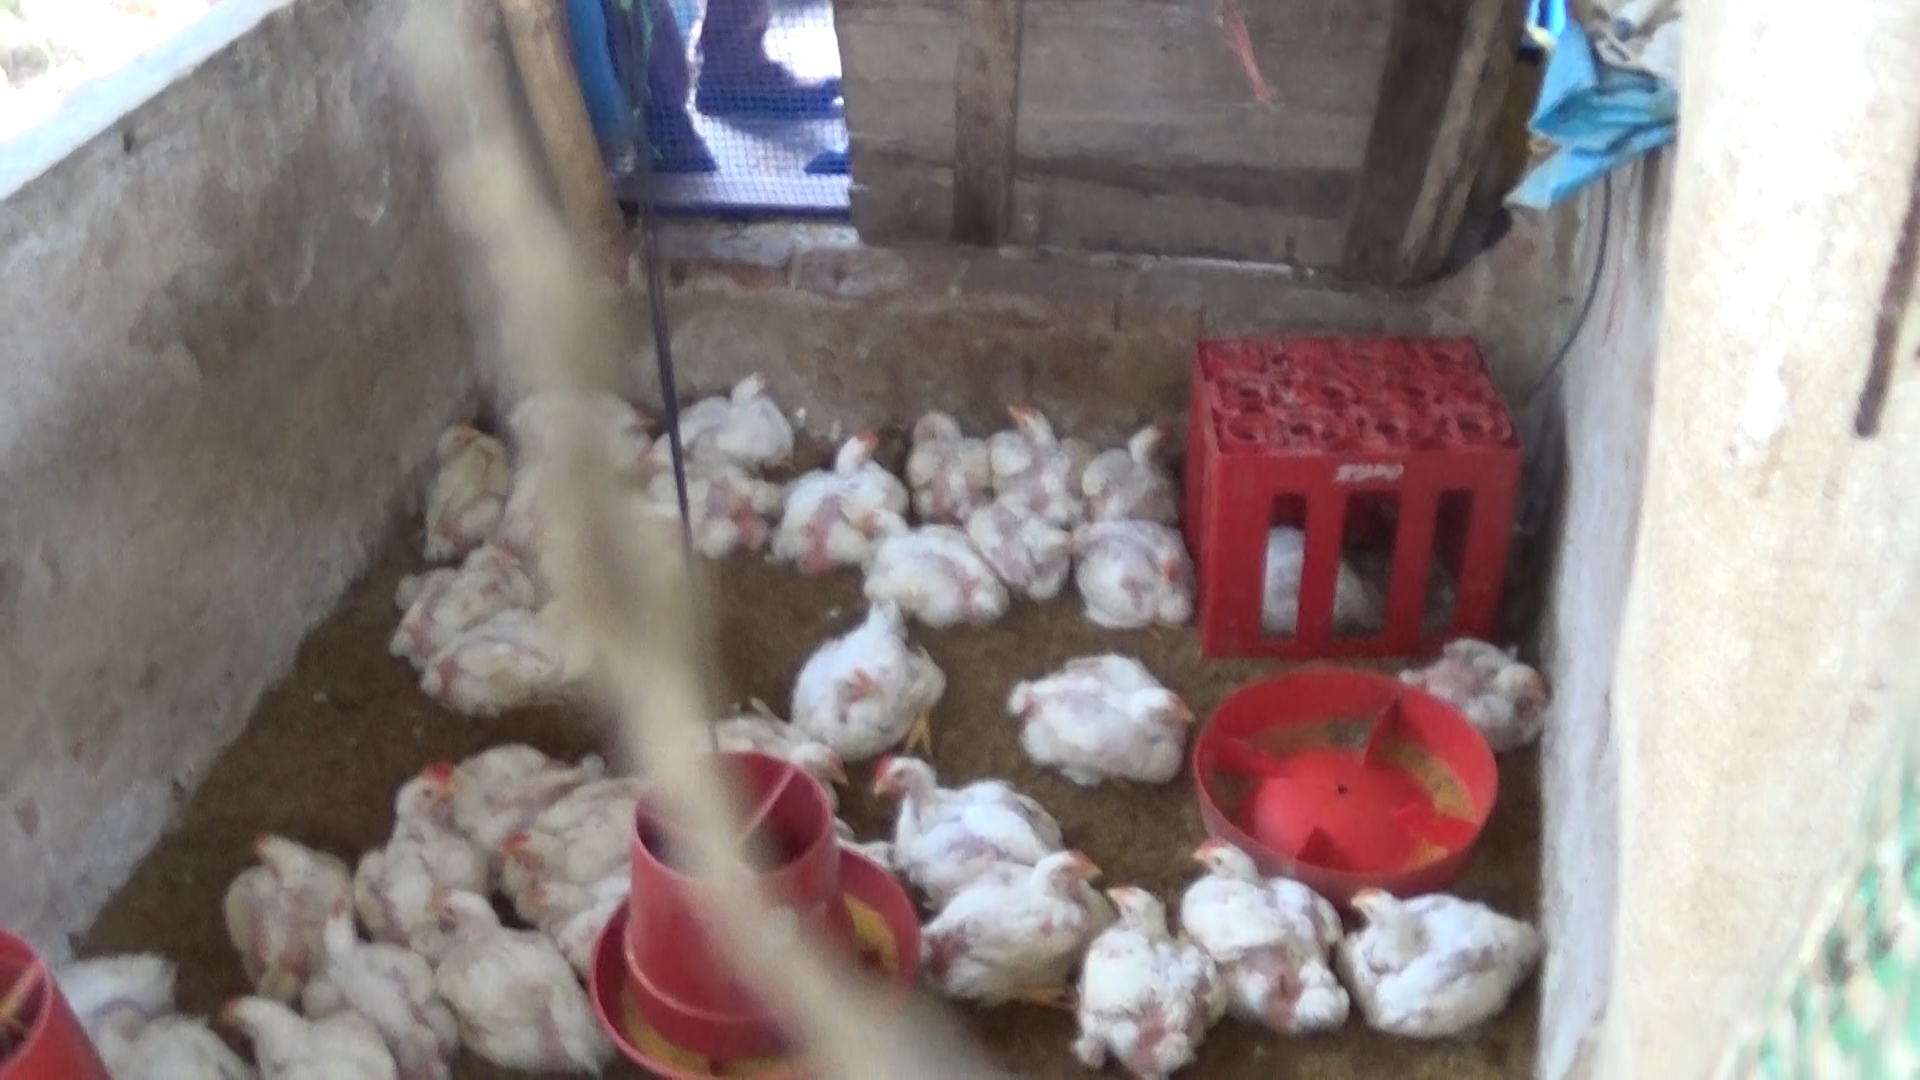Pollos: (1332, 864, 1542, 1038), (1166, 839, 1350, 1029), (427, 884, 595, 1068), (920, 841, 1096, 1011), (1069, 876, 1218, 1072), (786, 597, 945, 771), (1010, 653, 1187, 800), (356, 757, 495, 920), (204, 969, 404, 1080), (870, 738, 1051, 857), (309, 899, 442, 1060), (208, 833, 356, 975), (773, 423, 909, 567), (691, 699, 855, 808), (398, 541, 527, 678), (1395, 626, 1547, 742), (502, 773, 651, 884), (442, 601, 580, 717), (997, 386, 1109, 527), (647, 427, 786, 541), (407, 415, 514, 549), (1084, 514, 1203, 629), (894, 392, 1004, 516), (862, 520, 994, 622), (518, 855, 647, 944), (1080, 421, 1185, 529), (975, 492, 1077, 595), (670, 373, 799, 454)
